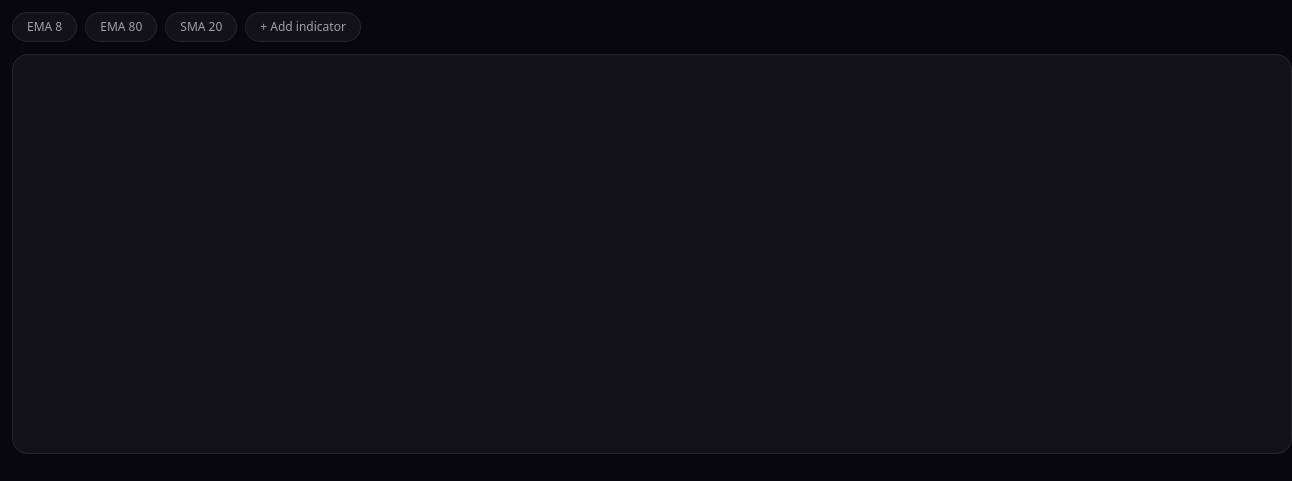
Test: CandlestickChart › adding a custom EMA 21 indicator creates a new active chip, a line series, and collapses the form
This screenshot has width=1292, height=481.
Click the button "+ Add indicator".
click(303, 27)  # box [245,12,361,42]
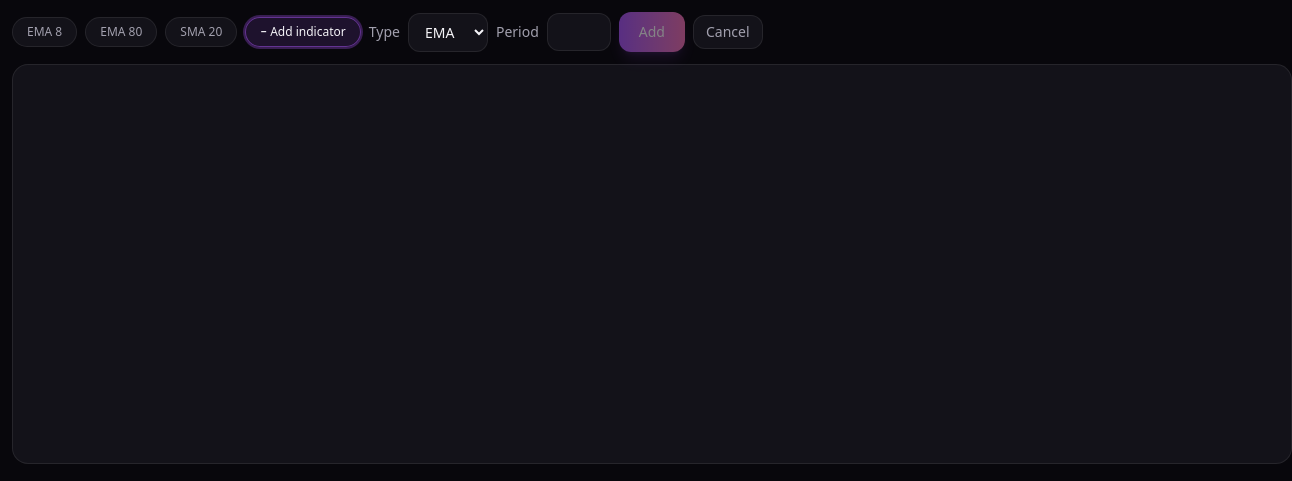
Select "EMA" in the dropdown labelled "Type" at (448, 32), box [408,12,488,52]
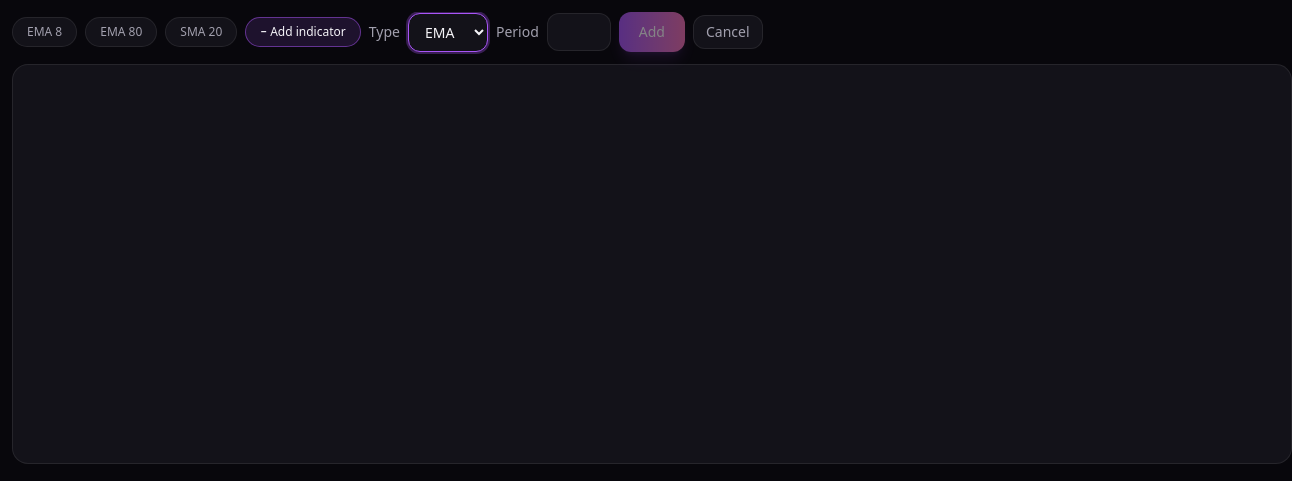
Type "21" into the number field labelled "Period".
click(579, 32); type("21")  # box [547,13,611,51]
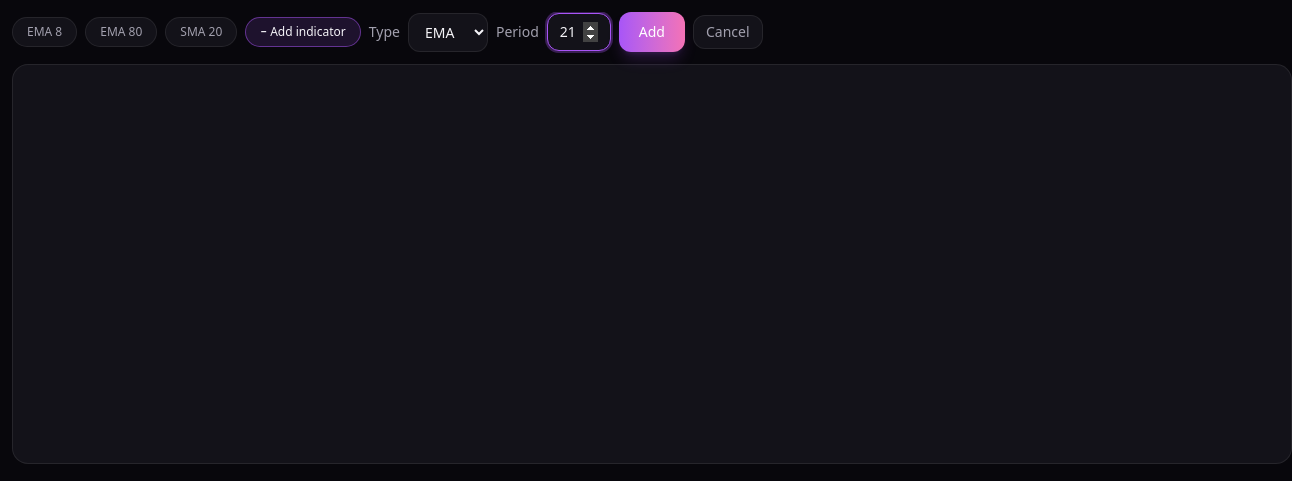
Click the button "Add".
click(652, 32)  # box [619,12,685,52]
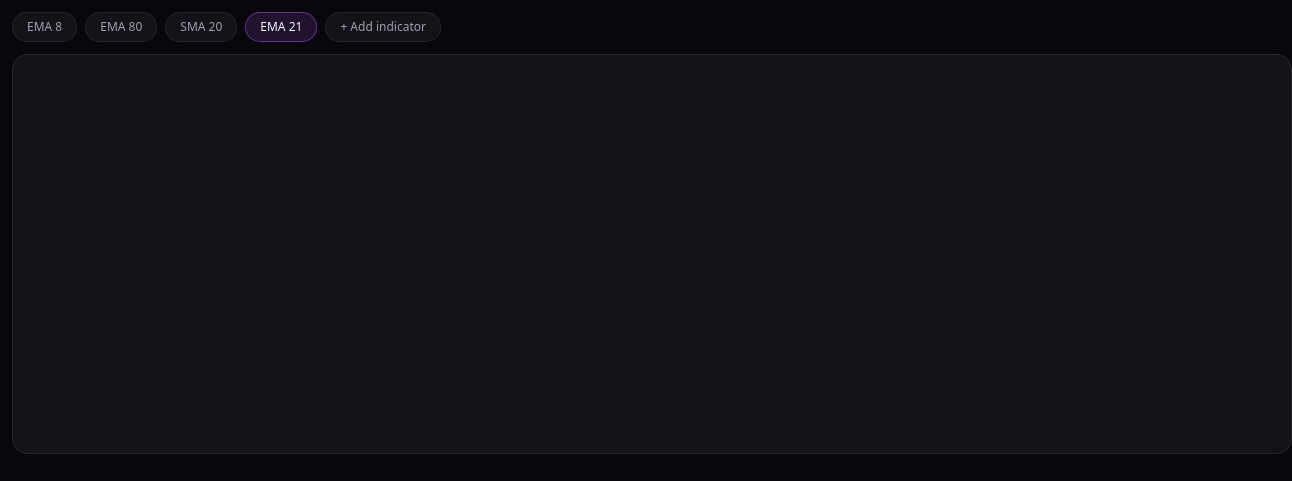
Result: the label labelled "Type" is gone
